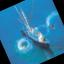fishing boat: (9, 0, 54, 58)
